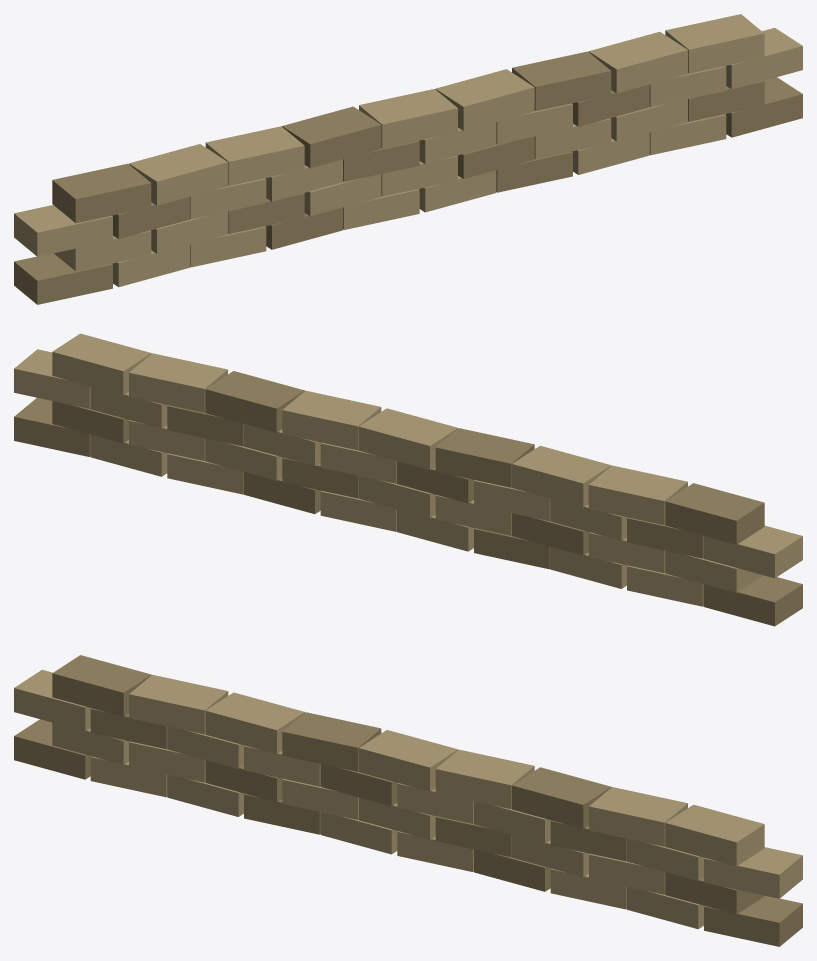
Rendered from SandbagWall.fbx.
3 renders of one model, top to bottom at view 1: azimuth 30°, elevation 25°; view 2: azimuth 150°, elevation 25°; view 3: azimuth 330°, elevation 25°, orthographic.
Visible parts, largest first — view 1: Bag_3_0, Bag_3_6, Bag_3_1, Bag_3_3, Bag_3_8, Bag_3_2, Bag_3_5, Bag_3_7, Bag_3_4, Bag_2_0, Bag_0_0, Bag_2_9 (+26 smaller); view 2: Bag_3_0, Bag_3_1, Bag_3_4, Bag_3_6, Bag_3_5, Bag_3_3, Bag_3_8, Bag_3_2, Bag_3_7, Bag_2_0, Bag_0_0, Bag_2_9 (+26 smaller); view 3: Bag_3_8, Bag_3_2, Bag_3_1, Bag_3_3, Bag_3_5, Bag_3_0, Bag_3_4, Bag_3_6, Bag_3_7, Bag_2_9, Bag_0_9, Bag_2_0 (+26 smaller).
Part boxes in pixels (x1,y1,x2,y2): Bag_3_0: [52, 163, 151, 223]; Bag_3_6: [512, 51, 611, 110]; Bag_3_1: [129, 144, 228, 205]; Bag_3_3: [282, 106, 381, 168]; Bag_3_8: [665, 14, 764, 73]; Bag_3_2: [205, 126, 304, 185]; Bag_3_5: [435, 69, 534, 130]; Bag_3_7: [588, 31, 687, 93]; Bag_3_4: [359, 89, 457, 148]; Bag_2_0: [14, 205, 112, 256]; Bag_0_0: [14, 253, 112, 304]; Bag_2_9: [725, 27, 802, 89]; Bag_3_0: [665, 483, 764, 544]; Bag_3_1: [588, 465, 687, 524]; Bag_3_4: [358, 408, 457, 469]; Bag_3_6: [205, 371, 304, 432]; Bag_3_5: [282, 390, 381, 450]; Bag_3_3: [435, 428, 534, 487]; Bag_3_8: [52, 333, 151, 395]; Bag_3_2: [512, 445, 611, 507]; Bag_3_7: [129, 353, 227, 412]; Bag_2_0: [703, 525, 802, 578]; Bag_0_0: [703, 575, 802, 626]; Bag_2_9: [14, 349, 90, 408]; Bag_3_8: [665, 804, 764, 866]; Bag_3_2: [205, 692, 304, 754]; Bag_3_1: [129, 674, 228, 734]; Bag_3_3: [282, 712, 381, 771]; Bag_3_5: [435, 749, 534, 809]; Bag_3_0: [52, 655, 151, 716]; Bag_3_4: [359, 730, 458, 791]; Bag_3_6: [512, 767, 611, 828]; Bag_3_7: [589, 787, 687, 846]; Bag_2_9: [704, 847, 802, 898]; Bag_0_9: [704, 896, 802, 946]; Bag_2_0: [14, 669, 91, 731].
Size of the model in its own units: 599 by 37.97 by 72.
